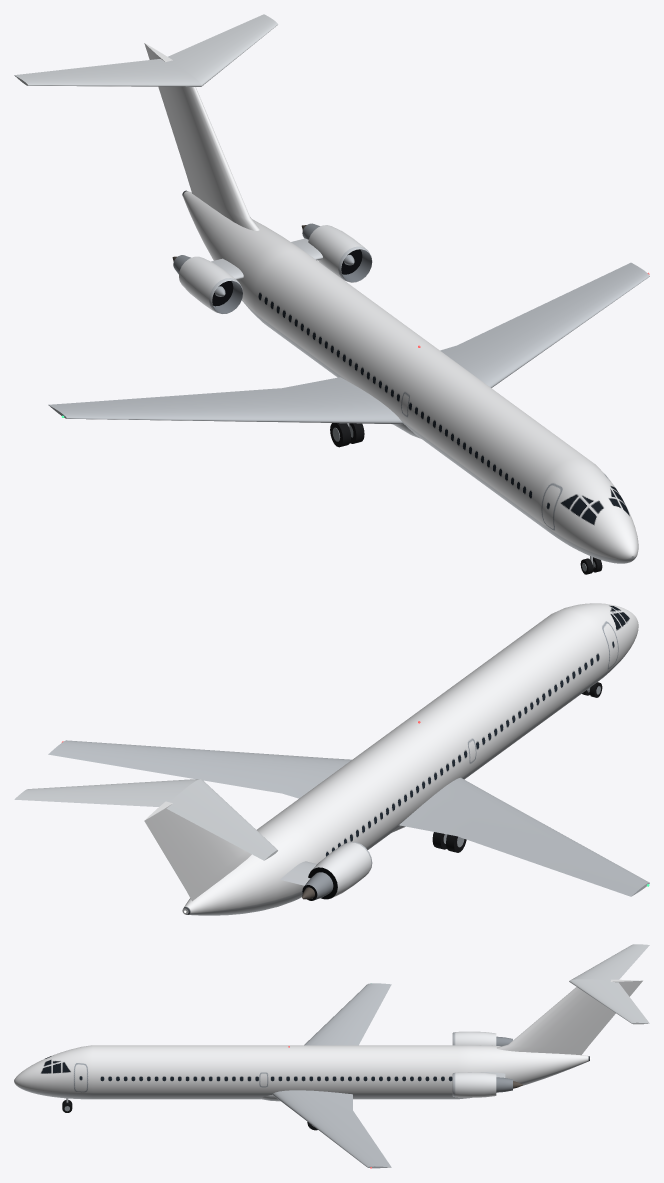
3 renders of one model, top to bottom at view 1: azimuth 30°, elevation 25°; view 2: azimuth 150°, elevation 25°; view 3: azimuth 270°, elevation 25°, orthographic. The views are drawn at different scales.
Visible parts, largest first — view 1: body, gear; view 2: body, gear; view 3: body.
Boxes of the visible parts, x1,y1,x2,y2 form: body: [14, 14, 649, 563]; gear: [330, 423, 602, 574]; body: [14, 603, 649, 915]; gear: [432, 682, 602, 852]; body: [14, 944, 649, 1168].
Size of the model in its own units: 28.67 by 9.54 by 41.74.
19 materials, 1 textured.
